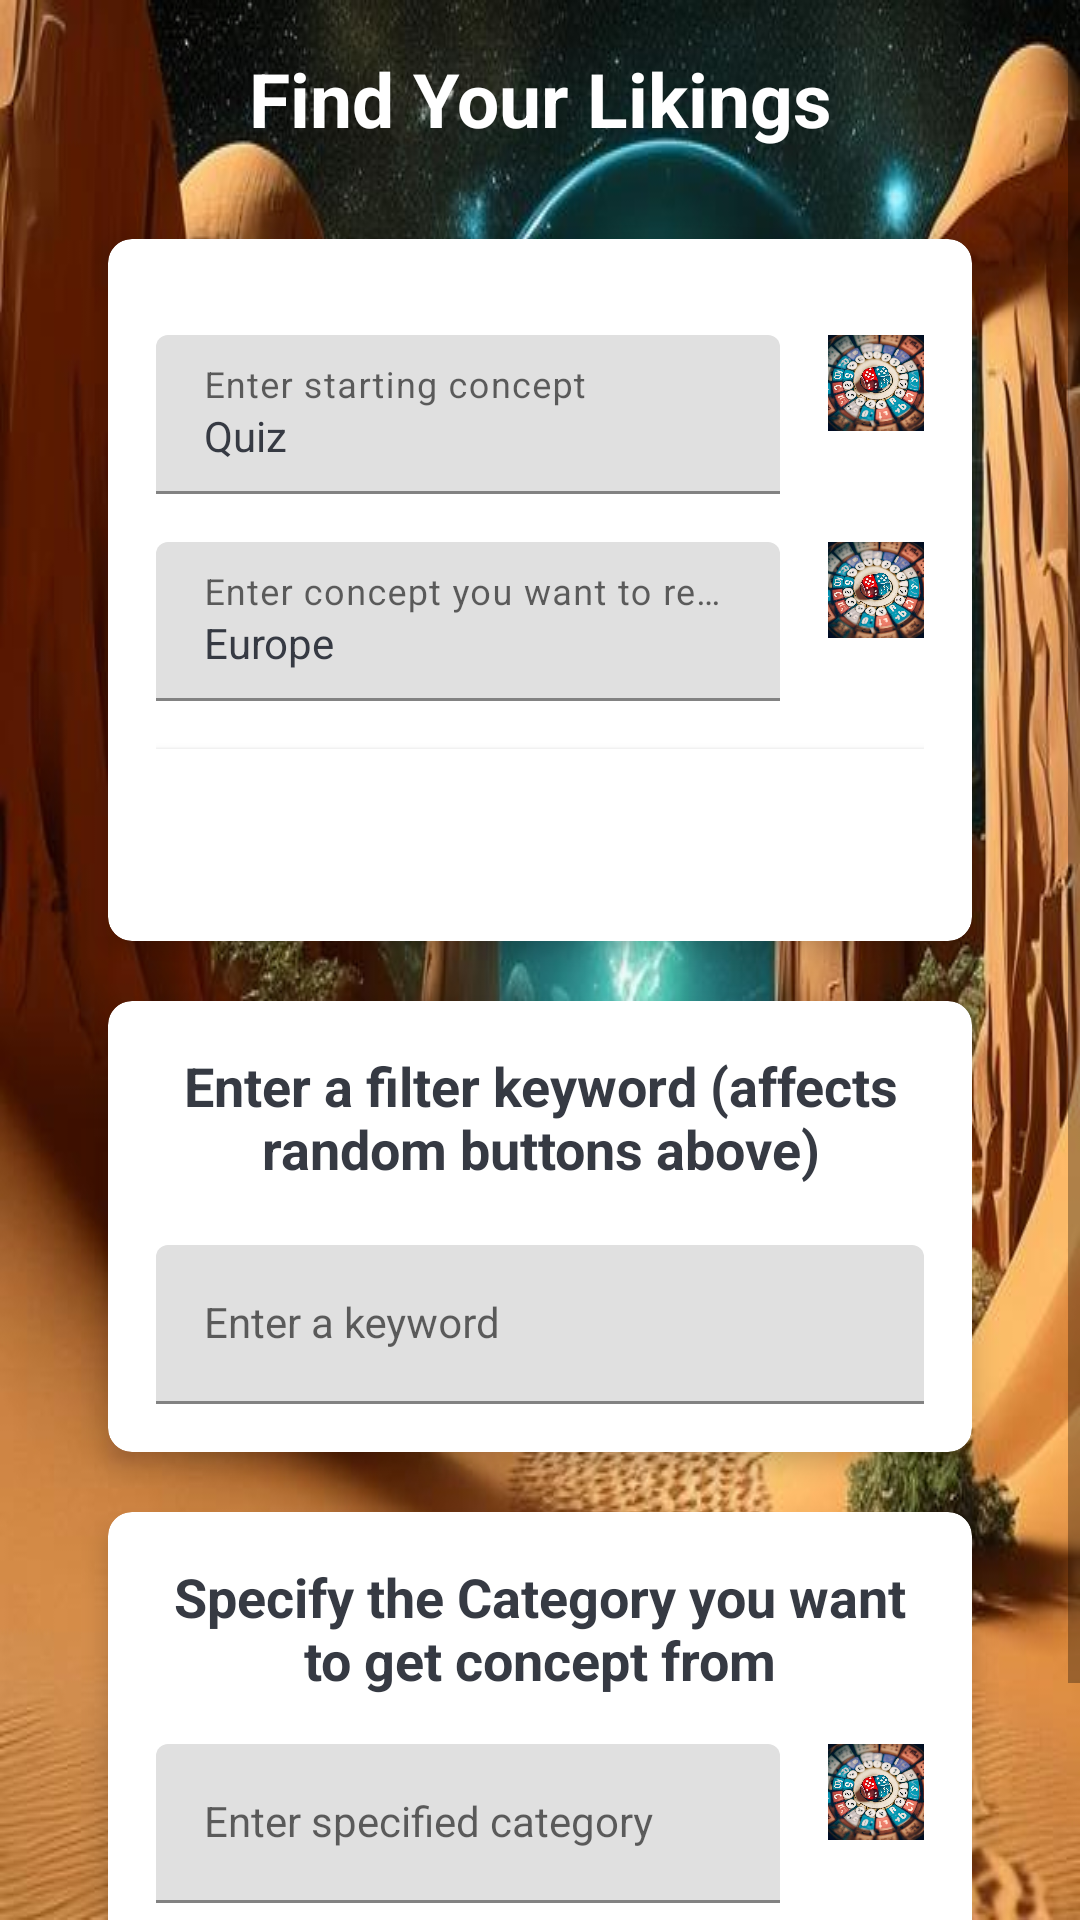

Icons on this 1080*1920 Android screen, each with the point to tap as point (x, y):
randomicon: point (876, 383), point (876, 590), point (876, 1792)
